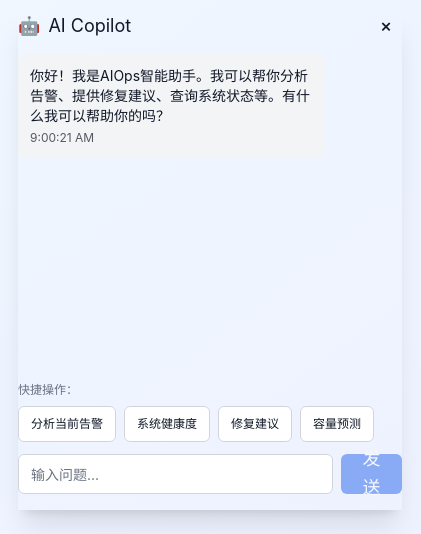
Test: AICopilot Component › Loading State › should disable input while loading
Type "Test" into the field with placeholder "输入问题...".
click(175, 474); type("Test")  # box [18,454,333,494]
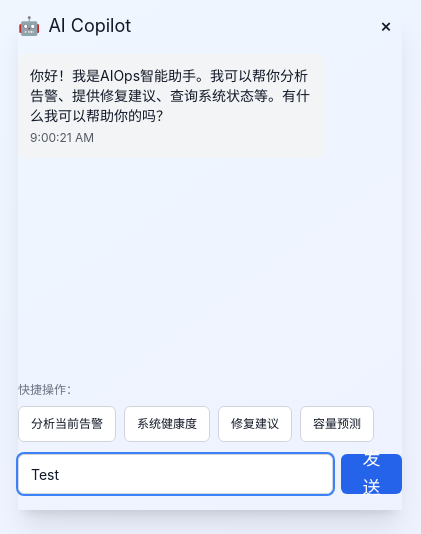
Click the button "发送".
click(371, 474)  # box [341,454,402,494]
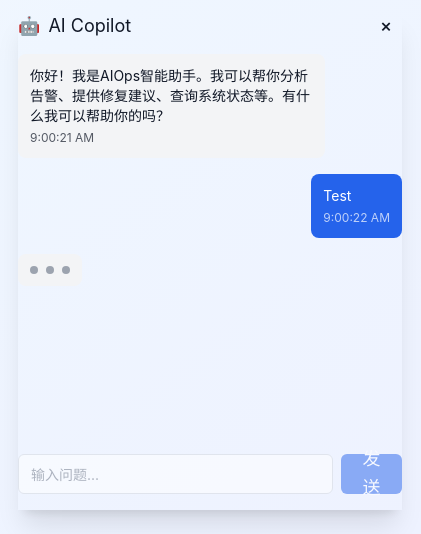
Expected: the field with placeholder "输入问题..." is disabled, [18,454,333,494]
